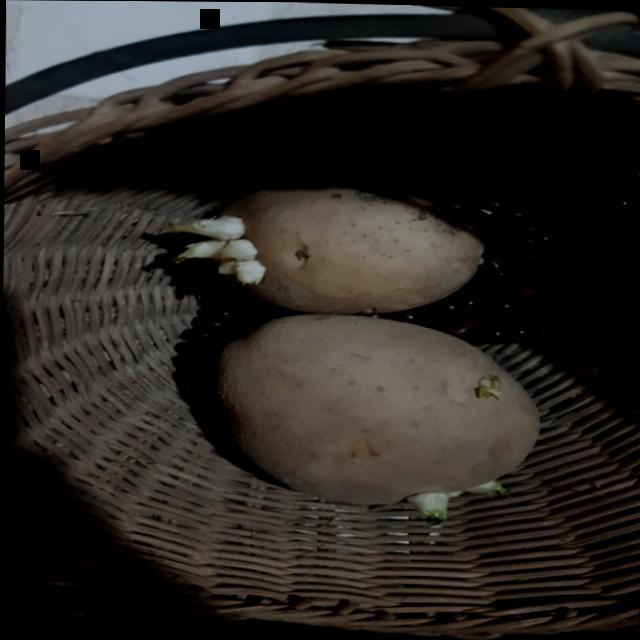potato: (199, 309, 550, 526), (164, 171, 506, 321)
